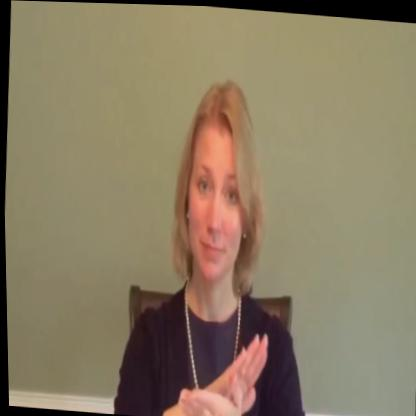NiceToMeetYou: (99, 70, 325, 416)
